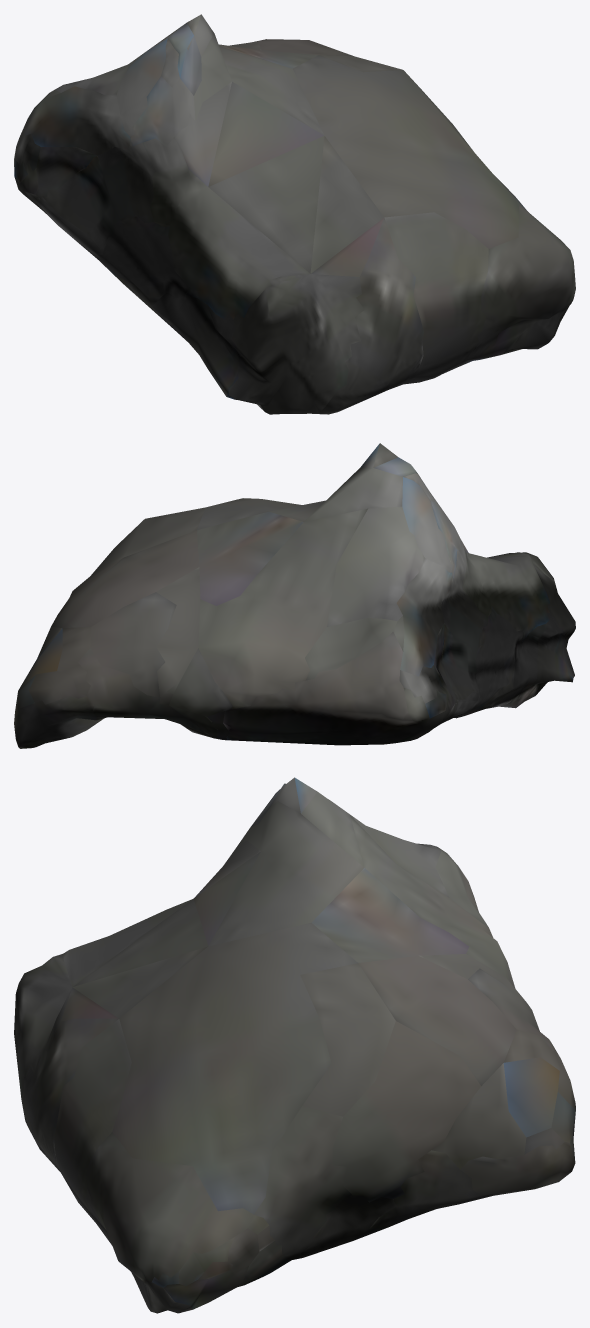
File: hall.glb
3 renders of one model, top to bottom at view 1: azimuth 30°, elevation 25°; view 2: azimuth 150°, elevation 25°; view 3: azimuth 270°, elevation 25°, orthographic. The views are drawn at different scales.
Size of the model in its own units: 0.3811 by 0.2967 by 0.3916.
Materials: 1 (1 with a texture image).
